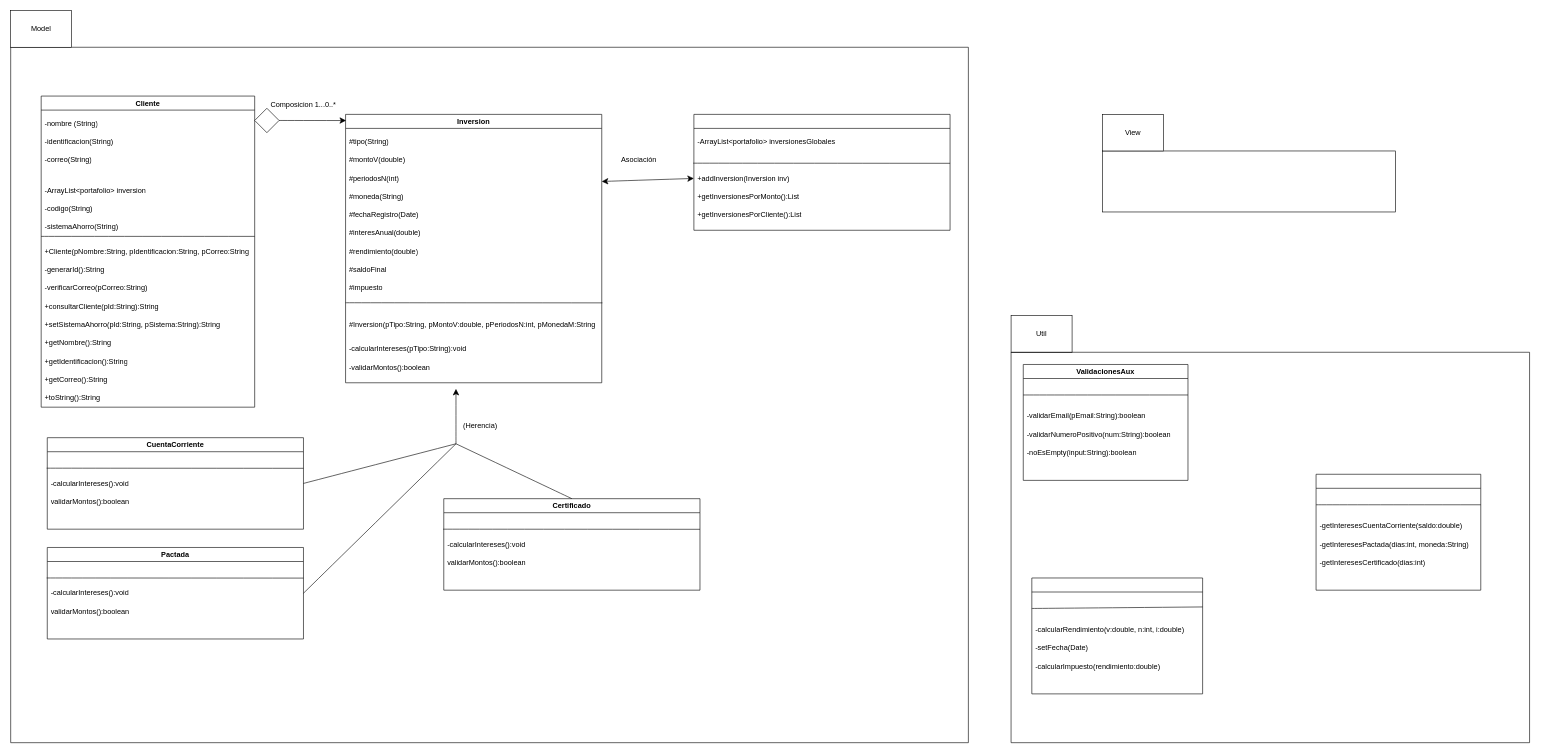
Image size: 1565x753. Some labels were removed from this diagram. Here are the shapes that lost their labels. From the top down, the box of each, then its label:
(693, 114, 950, 230): GestionCliente
(1102, 150, 1395, 212): (Aun debemos decidir como haremos la interfaz para pensar en este paquete
(1315, 474, 1481, 590): TablasIntereses
(1031, 577, 1203, 694): CalculosAux
